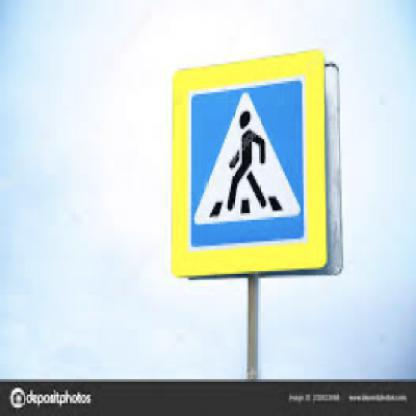crosswalk: (187, 76, 307, 248)
